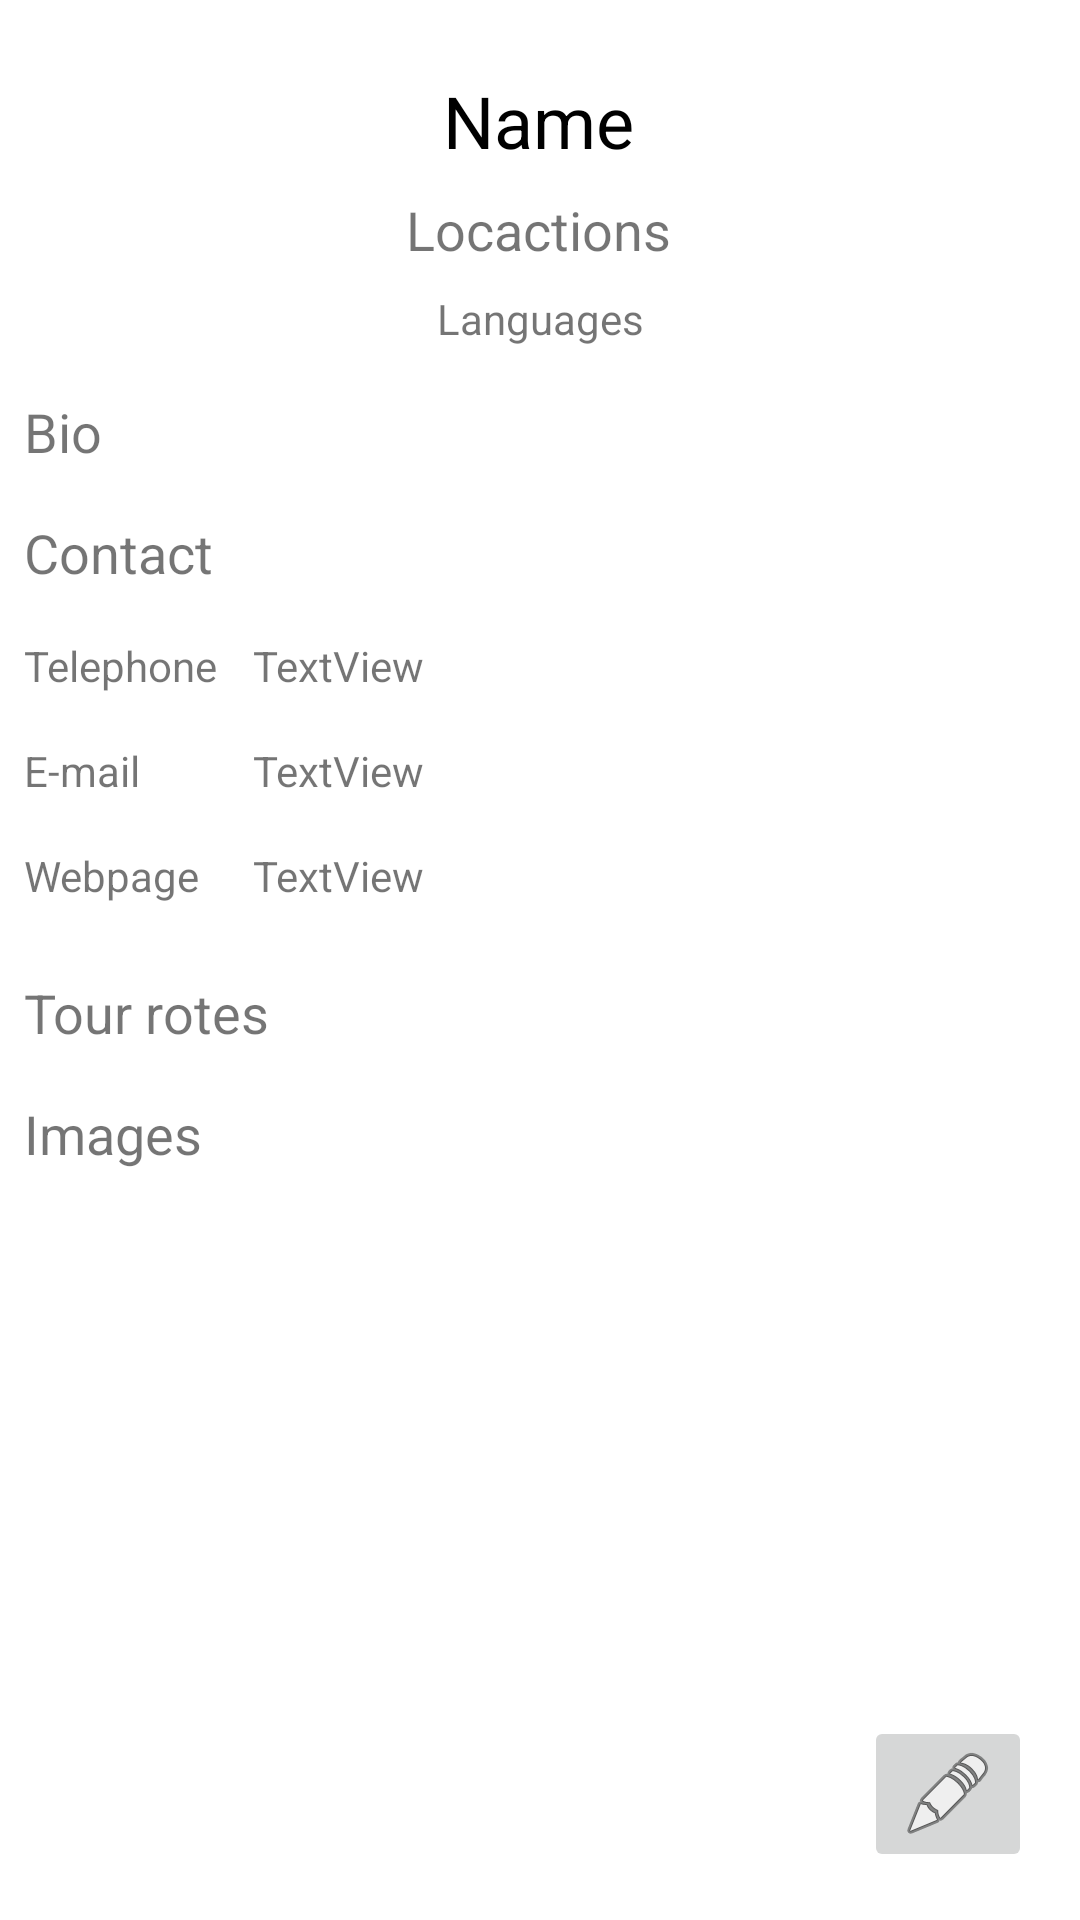

Point at icon controls on the screen. Image size 1080x1920, points as (x=x, y=y).
edit: (x=948, y=1794)
